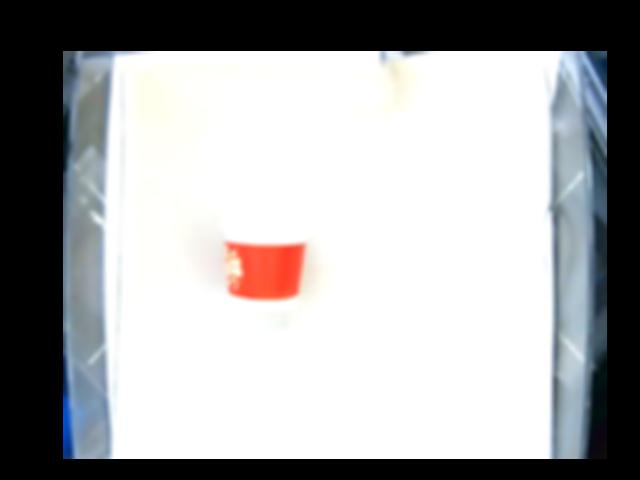Cup: (221, 217, 306, 311)
